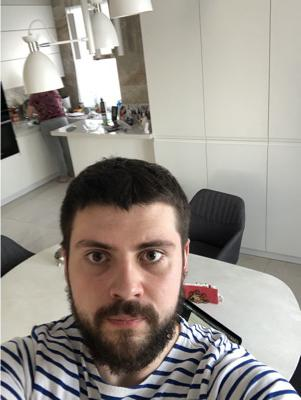without_mask: (68, 226, 179, 374)
